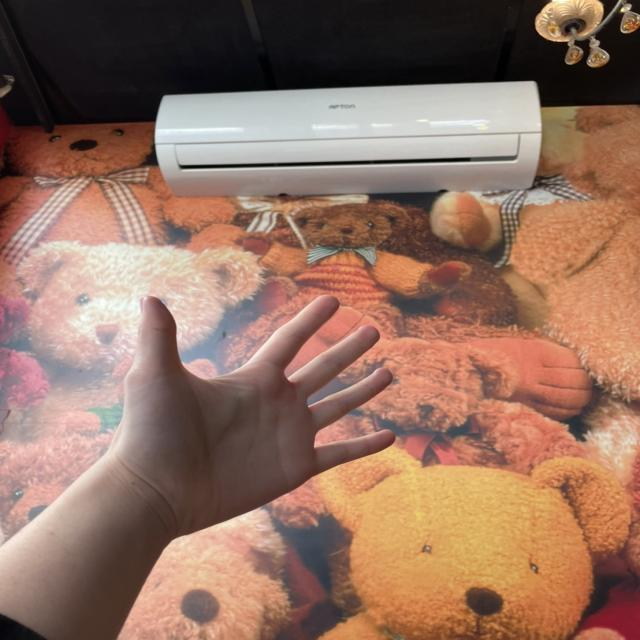hand: (101, 276, 424, 548)
